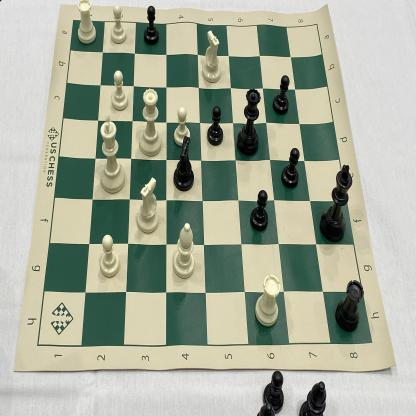black-king: (317, 164, 354, 245)
black-knight: (168, 136, 196, 193)
black-pawn: (248, 186, 269, 234), (280, 146, 301, 191), (272, 72, 291, 116), (206, 104, 224, 150), (142, 3, 160, 49)
black-queen: (236, 85, 262, 158)
black-rook: (334, 276, 365, 333)
white-bishop: (170, 219, 197, 282)
white-king: (96, 112, 128, 195)
white-knight: (137, 173, 160, 236), (200, 26, 223, 85)
white-pawn: (97, 231, 122, 279), (170, 105, 191, 148), (109, 68, 130, 111), (108, 4, 128, 44)
white-queen: (139, 85, 163, 158)
white-rook: (252, 269, 283, 331), (75, 0, 98, 46)
